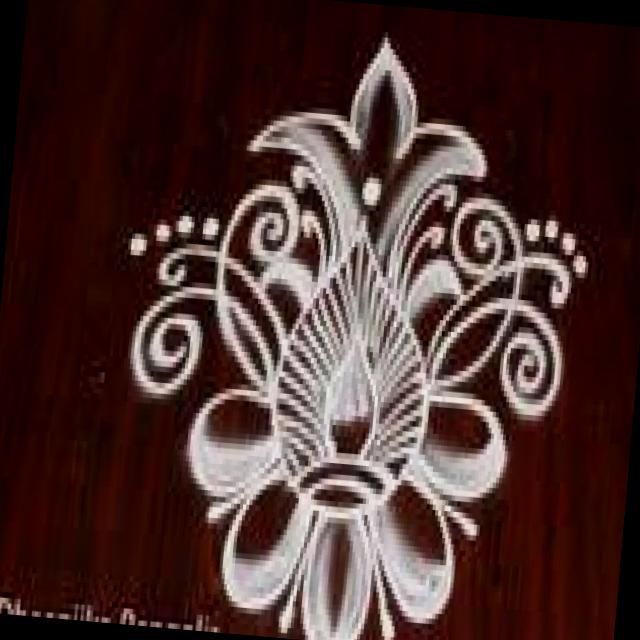rangoli: (85, 0, 610, 640)
